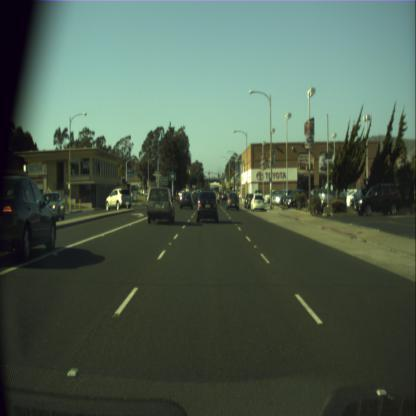Red: (208, 171, 210, 174)
